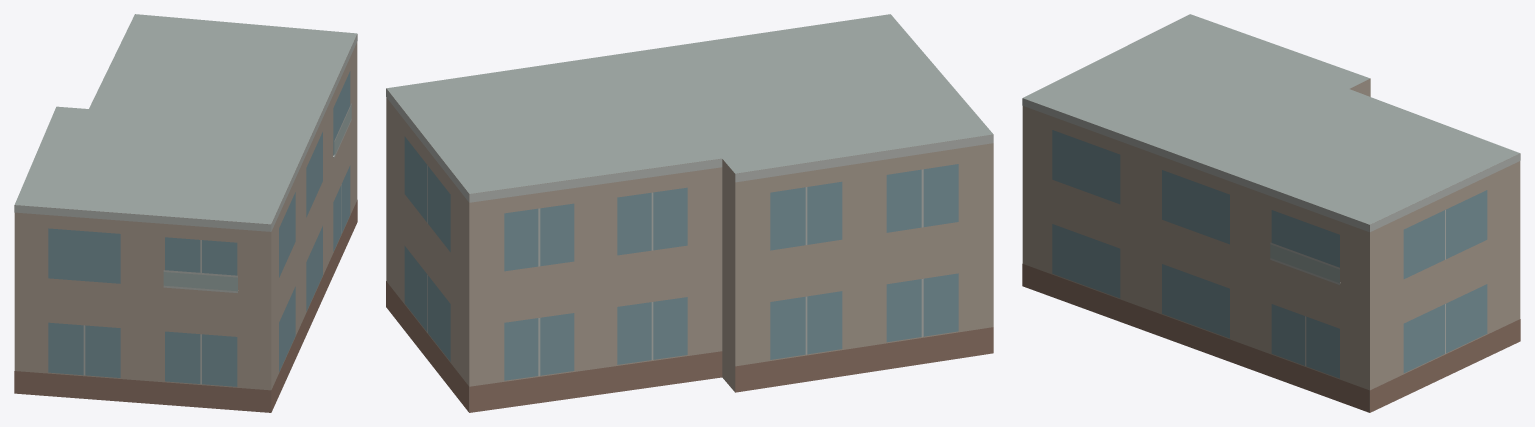
The model's file is survey-upis-32568040.glb.
3 renders of one model, left to right at view 1: azimuth 30°, elevation 25°; view 2: azimuth 150°, elevation 25°; view 3: azimuth 270°, elevation 25°, orthographic. The views are drawn at different scales.
Parts seen in each view (by area): view 1: survey-upis-32568040.tmp; view 2: survey-upis-32568040.tmp; view 3: survey-upis-32568040.tmp.
Boxes of the visible parts, <box> form: survey-upis-32568040.tmp: <box>14,14,357,412</box>; survey-upis-32568040.tmp: <box>386,14,993,412</box>; survey-upis-32568040.tmp: <box>1022,14,1520,412</box>.
Bounding box in the file's own units: 14.68 × 6.1 × 14.65.
